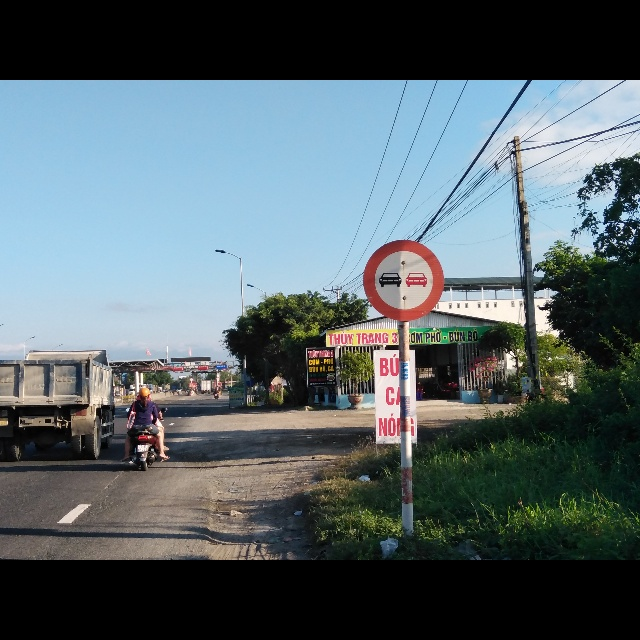Cấm vượt: (362, 237, 447, 321)
